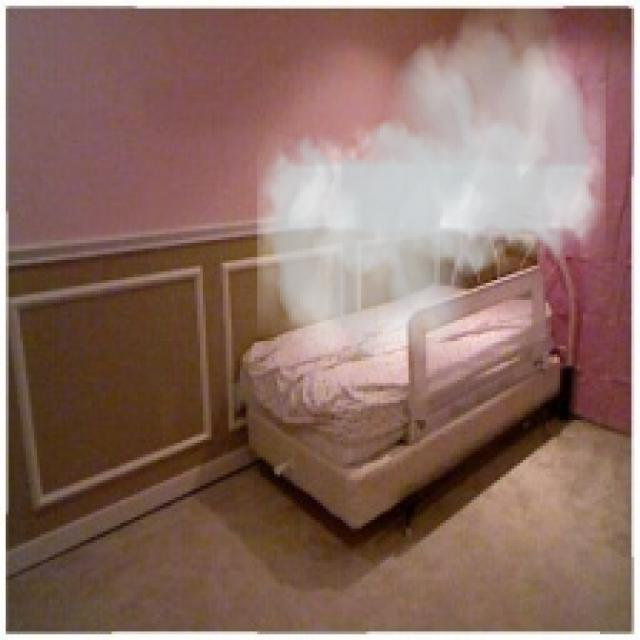Smoke: (257, 8, 606, 386)
